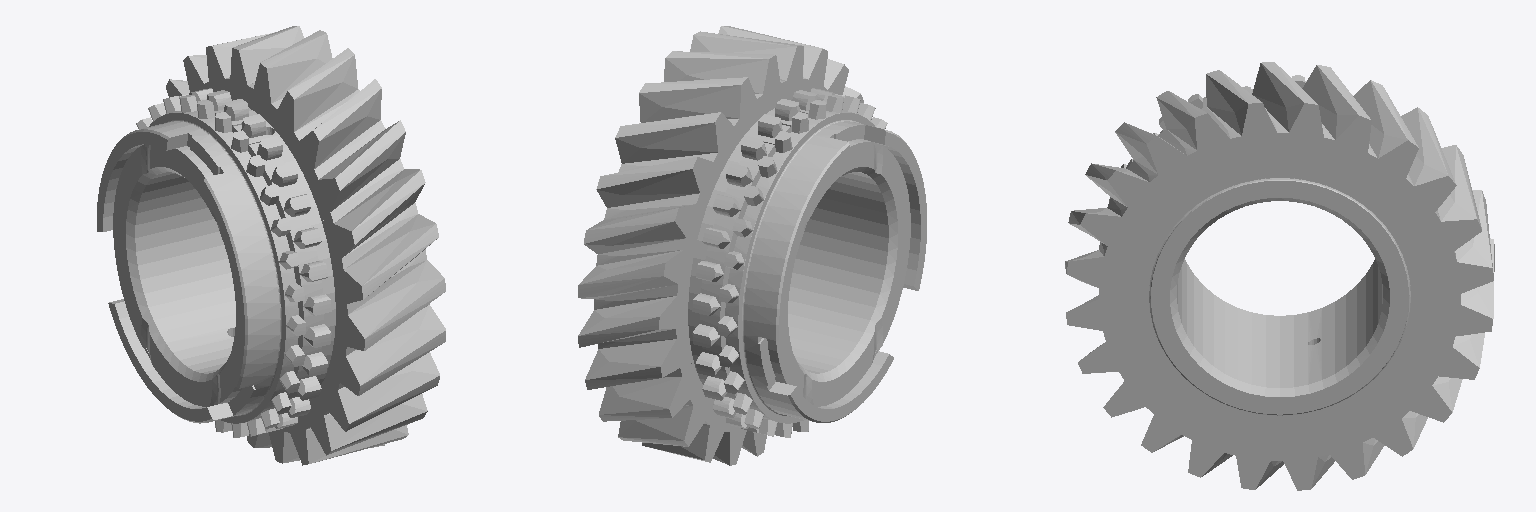
Rendered from 74. Комплект шестерни с кольцом после притирки.obj.
The picture shows the model from 3 angles: view 1: azimuth 30°, elevation 25°; view 2: azimuth 150°, elevation 25°; view 3: azimuth 270°, elevation 25°; orthographic projection.
Visible parts, largest first — view 1: Solid1, Твердое тело1, Твердое тело2; view 2: Solid1, Твердое тело1, Твердое тело2; view 3: Solid1, Твердое тело1.
Boxes of the visible parts, x1,y1,x2,y2 form: Solid1: [166, 26, 445, 465]; Твердое тело1: [113, 88, 337, 432]; Твердое тело2: [97, 95, 305, 437]; Solid1: [578, 26, 863, 465]; Твердое тело1: [686, 88, 910, 432]; Твердое тело2: [718, 95, 926, 437]; Solid1: [1065, 62, 1494, 490]; Твердое тело1: [1120, 86, 1439, 442].
Size of the model in its own units: 45.7 by 99.84 by 99.84.